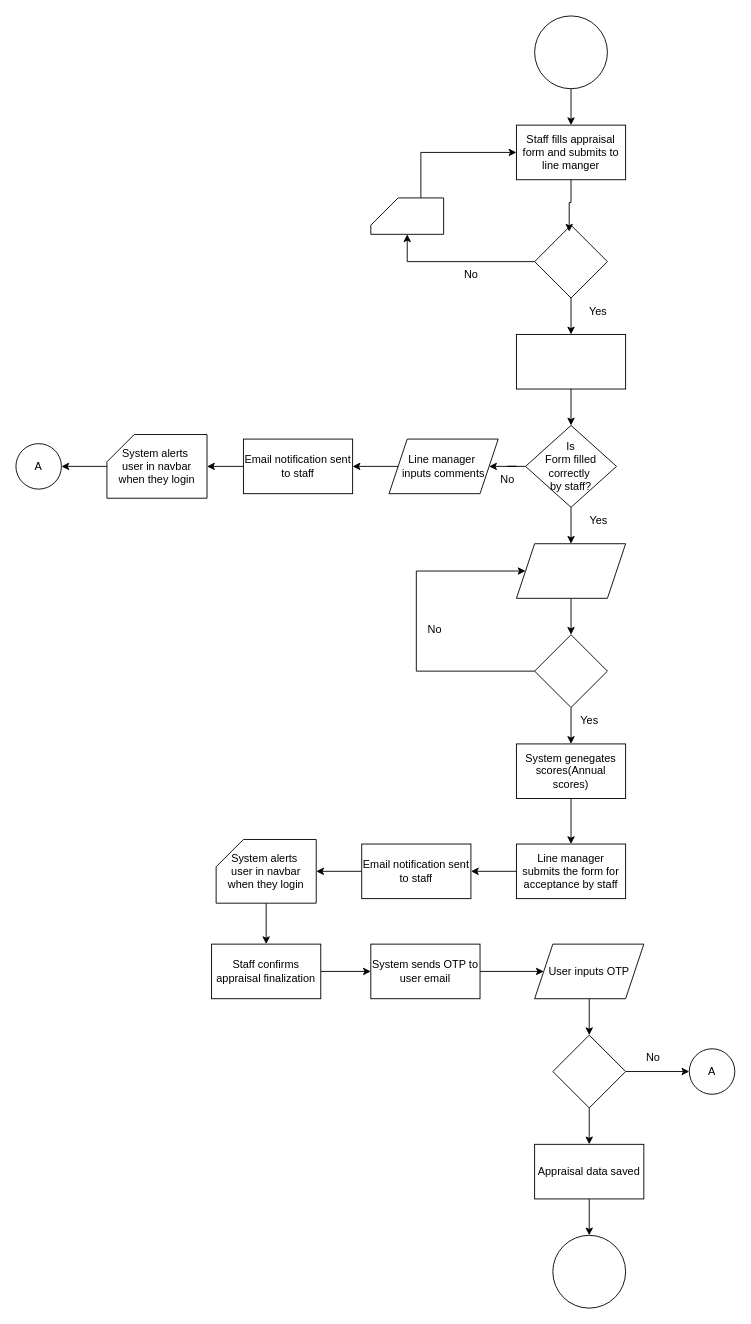
The diagram is 751 pixels wide and 1324 high, and some of its shapes have lost their labels. The centre of each missing label's shape, as x and y in pixels:
"All required inputs filled?" goes at point 570,261.
"END" goes at point 589,1271.
"Is form filled correctly by line manger" goes at point 570,671.
"Is OTP Correct" goes at point 589,1071.
"Line manager scores staff" goes at point 571,570.
"Line manager views staff appraisal form" goes at point 571,361.
"START" goes at point 570,52.
"User is notified of missing inputs" goes at point 407,215.
